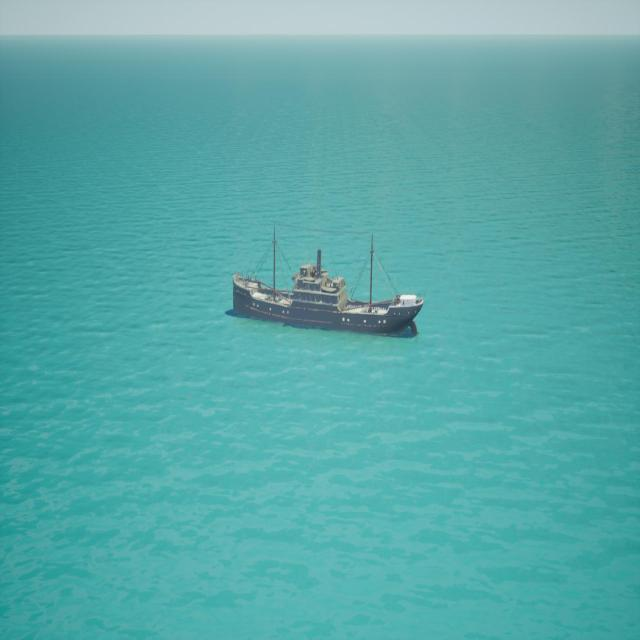fishing ship: (231, 229, 425, 340)
